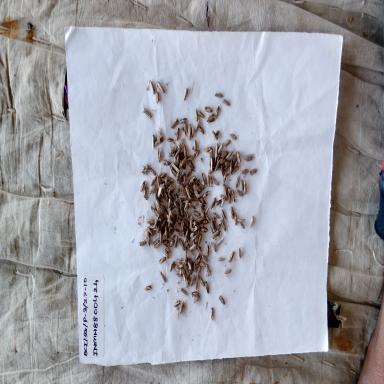pbw: (154, 136, 164, 149), (204, 279, 212, 295), (140, 164, 150, 176), (142, 107, 152, 119), (181, 184, 188, 200), (210, 238, 217, 254), (168, 258, 175, 274), (182, 88, 189, 104), (159, 270, 167, 284), (173, 148, 181, 162), (244, 153, 254, 164), (201, 253, 210, 265), (186, 158, 195, 170), (229, 204, 235, 222), (175, 207, 181, 225), (183, 120, 189, 138), (195, 234, 202, 249), (169, 233, 176, 248), (168, 164, 176, 177), (149, 176, 157, 189), (156, 146, 162, 163), (170, 118, 180, 128), (211, 176, 220, 187), (192, 183, 203, 192), (215, 90, 224, 101), (178, 237, 185, 251), (235, 186, 243, 198), (214, 230, 222, 242), (236, 150, 242, 166), (175, 263, 183, 275), (149, 164, 157, 176), (171, 160, 179, 172), (169, 144, 177, 156), (216, 236, 224, 248), (173, 234, 179, 250), (157, 183, 163, 199), (214, 158, 220, 174), (228, 250, 234, 266), (197, 274, 205, 286), (218, 294, 226, 306), (199, 207, 206, 220), (177, 137, 184, 150), (234, 174, 240, 189), (186, 257, 192, 272), (182, 268, 188, 283), (204, 105, 214, 114), (180, 287, 190, 296), (140, 178, 146, 193), (185, 185, 191, 200), (178, 116, 187, 126), (158, 255, 166, 266), (146, 226, 154, 237), (150, 79, 155, 96), (180, 156, 187, 168), (210, 218, 216, 232), (200, 196, 207, 208), (201, 173, 207, 187), (146, 228, 152, 242), (221, 219, 227, 233), (154, 194, 160, 208), (249, 215, 255, 229), (144, 234, 150, 248), (210, 306, 215, 322), (158, 170, 166, 180), (150, 132, 155, 148), (193, 138, 198, 154), (211, 131, 219, 141), (164, 242, 172, 252), (162, 156, 170, 166), (231, 167, 239, 177), (192, 148, 200, 158), (199, 260, 207, 270), (218, 254, 226, 264), (192, 295, 200, 305), (222, 171, 227, 187), (198, 124, 206, 134), (243, 179, 248, 195), (189, 242, 197, 252), (206, 114, 216, 122), (249, 167, 257, 177), (183, 229, 189, 242), (192, 188, 199, 199), (226, 149, 233, 160), (206, 174, 211, 189), (194, 120, 200, 132), (230, 132, 238, 141), (183, 200, 189, 212), (212, 228, 220, 237), (203, 206, 209, 218), (153, 242, 161, 251), (186, 273, 190, 291), (188, 201, 196, 210), (233, 158, 239, 170), (210, 197, 216, 209), (149, 184, 155, 196), (171, 188, 180, 196), (228, 186, 233, 200), (209, 225, 214, 239), (190, 173, 197, 183), (175, 126, 180, 140), (224, 138, 231, 148), (194, 251, 201, 261), (215, 105, 220, 119), (223, 97, 230, 107), (145, 282, 152, 292), (166, 184, 173, 194), (167, 209, 172, 223), (198, 109, 205, 119), (221, 208, 226, 222), (174, 298, 181, 308), (208, 144, 213, 158), (195, 228, 200, 242), (196, 264, 201, 278), (152, 236, 159, 246), (143, 186, 148, 200), (156, 127, 160, 144), (164, 249, 170, 260), (186, 265, 192, 276), (183, 173, 188, 186), (139, 239, 147, 247), (165, 222, 169, 238), (231, 153, 235, 169), (196, 216, 204, 224), (183, 249, 187, 265), (214, 198, 222, 206), (161, 238, 169, 246), (189, 255, 193, 271), (166, 136, 174, 144), (174, 227, 182, 235), (166, 175, 174, 183), (187, 154, 195, 162), (202, 189, 210, 197), (187, 123, 191, 139), (191, 290, 199, 298), (199, 226, 208, 233), (167, 229, 174, 238), (203, 147, 212, 154), (221, 149, 228, 158), (184, 144, 188, 159), (162, 202, 168, 212), (172, 220, 178, 230), (180, 168, 186, 178), (214, 144, 218, 159), (206, 264, 211, 276), (156, 174, 160, 189), (210, 156, 214, 171), (190, 220, 196, 230), (198, 200, 204, 210), (150, 204, 156, 214), (206, 244, 210, 259), (194, 105, 198, 120), (198, 186, 205, 194), (238, 217, 246, 224), (180, 219, 184, 233), (227, 192, 231, 206), (208, 167, 215, 175), (242, 168, 249, 176), (238, 246, 242, 260), (213, 213, 220, 221), (180, 300, 184, 314), (190, 234, 198, 241), (190, 226, 198, 233), (231, 190, 235, 204), (190, 274, 194, 288), (159, 231, 163, 245), (190, 214, 194, 228), (218, 143, 223, 154), (223, 268, 232, 274), (192, 210, 201, 216), (156, 210, 165, 216), (146, 218, 155, 224), (196, 255, 202, 264), (240, 179, 244, 192), (215, 222, 220, 232), (206, 215, 211, 225), (187, 169, 192, 179), (161, 218, 166, 228), (220, 198, 225, 208), (164, 177, 168, 189), (168, 151, 176, 157), (174, 202, 180, 210), (226, 168, 232, 176), (186, 234, 190, 246), (176, 180, 184, 186), (183, 218, 189, 226), (192, 260, 196, 272), (176, 170, 180, 182), (191, 126, 195, 138), (175, 272, 183, 278), (164, 190, 168, 202), (169, 194, 175, 202), (199, 178, 205, 186), (192, 196, 200, 202), (176, 154, 180, 166), (194, 275, 197, 290), (219, 157, 228, 162), (234, 211, 237, 226), (156, 215, 160, 226), (180, 206, 184, 217), (156, 223, 160, 234), (179, 197, 183, 208), (220, 194, 226, 201), (178, 258, 185, 264), (224, 161, 231, 167), (156, 91, 159, 105), (190, 145, 196, 152), (162, 231, 168, 238), (167, 197, 171, 207), (220, 166, 224, 176), (186, 211, 190, 221), (159, 201, 164, 209), (239, 220, 244, 228), (196, 223, 204, 228), (223, 184, 226, 196), (178, 263, 184, 269), (196, 246, 202, 252), (178, 193, 184, 199), (202, 219, 209, 224), (189, 231, 194, 238), (230, 160, 232, 175)
